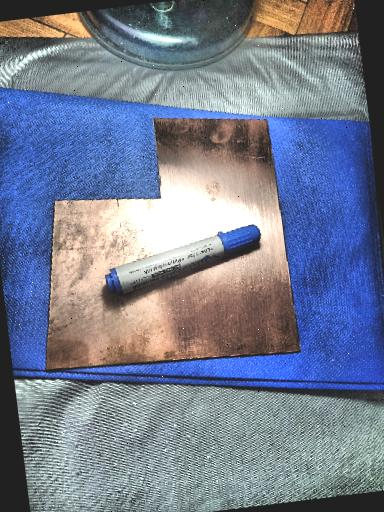marcador azul: (105, 225, 260, 295)
